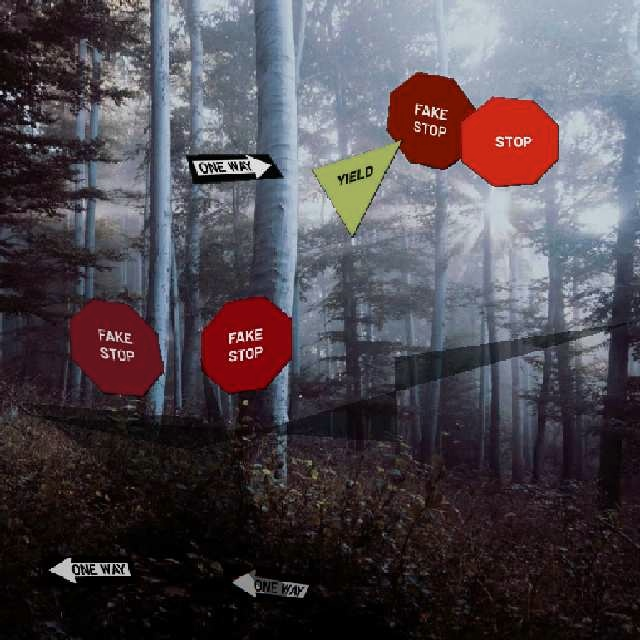FAKE_STOP: (67, 297, 163, 396), (199, 294, 291, 393), (385, 70, 476, 169)
ONE_WAY_ left: (218, 560, 317, 603), (39, 554, 138, 585)
ONE_WAY_ right: (184, 152, 283, 183)
STOP: (459, 95, 558, 186)
YIELD: (310, 138, 402, 237)
